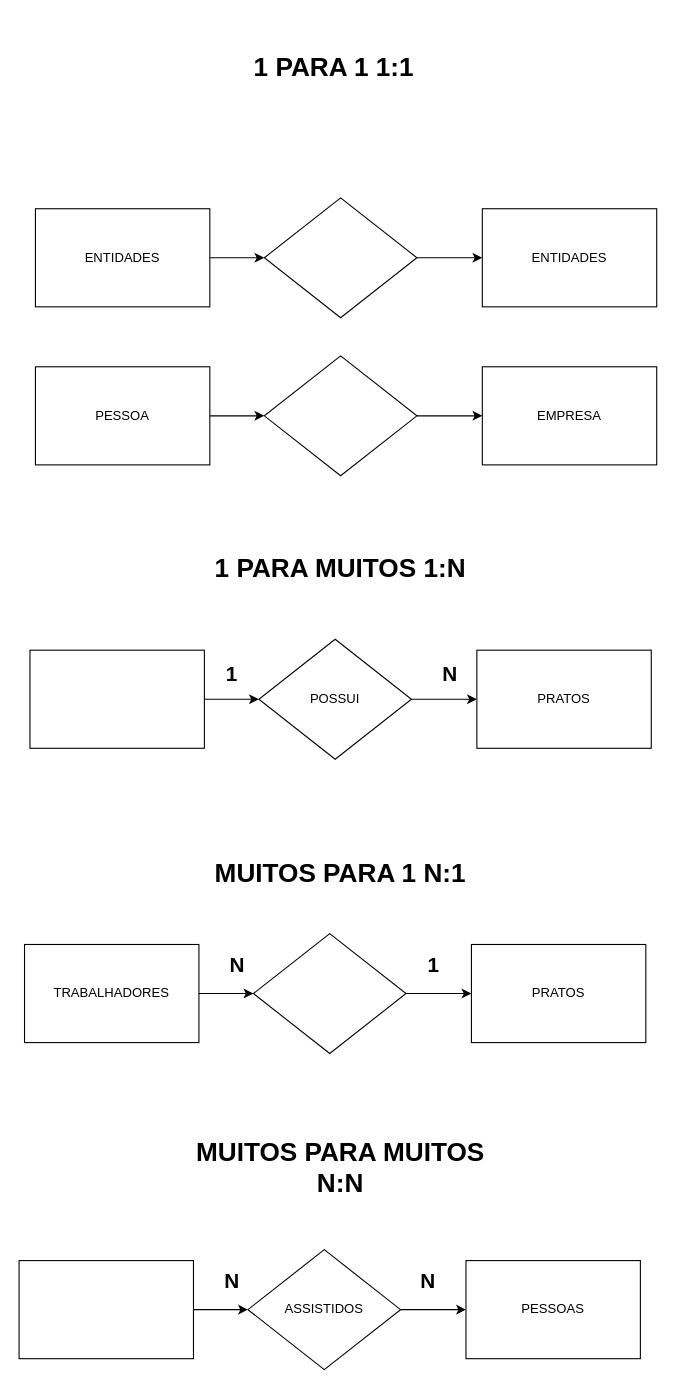
Image size: 676x1389. Some labels were removed from this diagram. The box of each missing label's shape, as (x1, y1, x2, y2) in pixels:
RELACIONAMENTOS: (263, 197, 417, 318)
RESTAURANTE: (29, 649, 204, 748)
TRABALHA: (263, 355, 417, 476)
TRABALHAM: (252, 932, 406, 1053)
VIDEOS: (18, 1259, 193, 1359)
